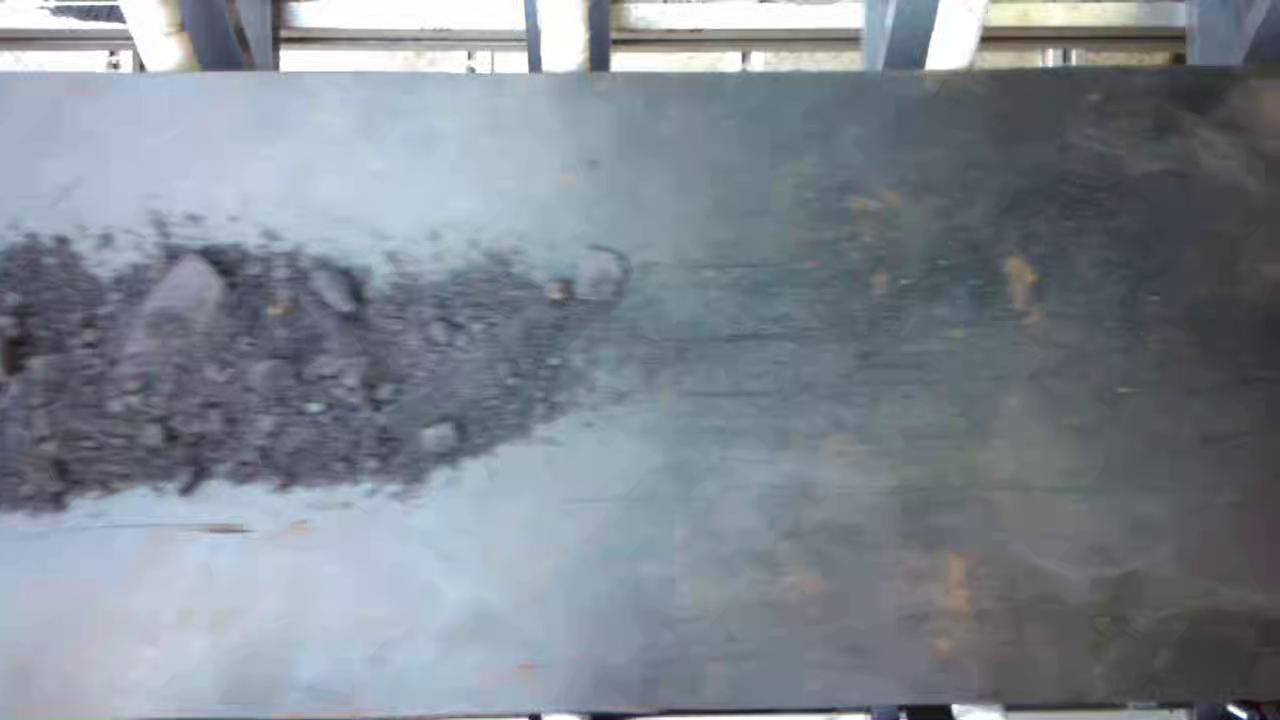conveyor: (0, 81, 1277, 697)
